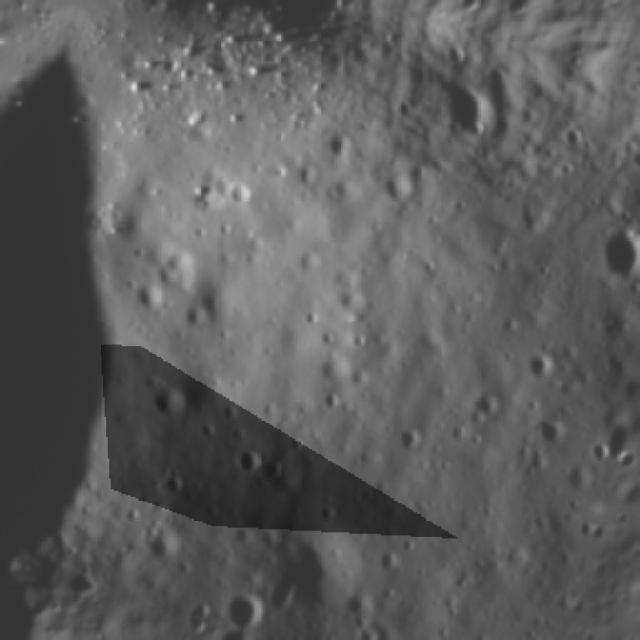crater: (426, 66, 511, 154), (139, 370, 203, 435), (591, 214, 640, 298), (220, 437, 278, 492), (375, 162, 431, 218), (139, 521, 193, 573), (334, 584, 384, 633), (254, 452, 300, 501), (464, 383, 505, 434), (128, 278, 172, 325), (223, 594, 271, 634), (523, 342, 563, 384), (388, 420, 429, 460), (372, 545, 414, 583), (322, 128, 358, 170), (222, 177, 260, 214), (313, 386, 350, 423), (535, 418, 573, 452), (178, 300, 211, 338), (310, 498, 345, 533), (582, 436, 616, 464), (299, 301, 327, 333), (530, 258, 559, 288), (288, 162, 315, 192), (571, 516, 595, 546), (560, 495, 588, 520), (315, 329, 339, 357), (449, 194, 474, 220), (351, 621, 385, 640), (121, 503, 145, 528), (418, 256, 439, 282), (561, 125, 585, 147), (352, 328, 370, 355), (627, 146, 640, 175), (529, 637, 556, 640)
